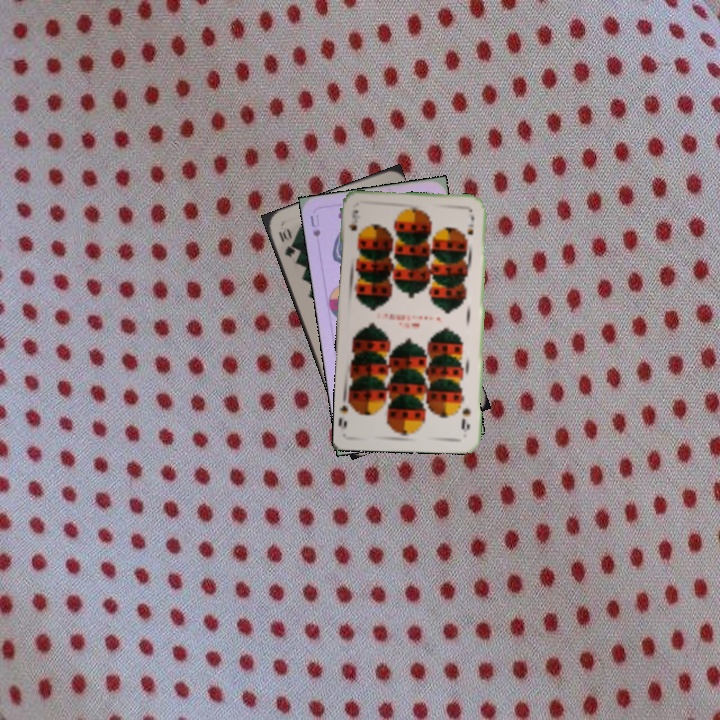G10: (274, 223, 298, 260)
S9: (457, 404, 473, 434), (345, 206, 361, 233)
SU: (306, 210, 323, 240)
